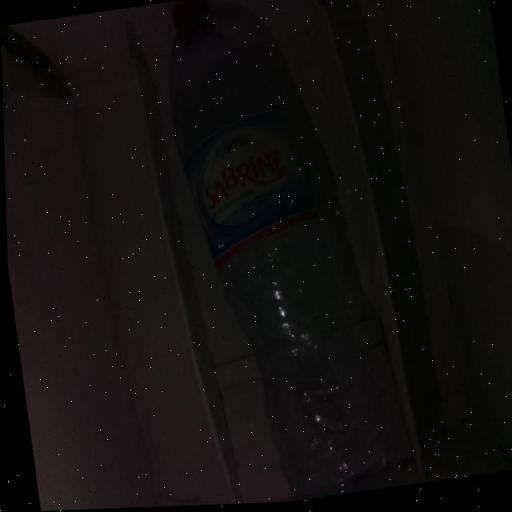plastic: (131, 0, 427, 508)
